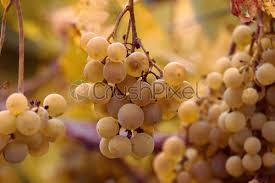grapes: (82, 28, 183, 169), (191, 59, 274, 174), (2, 85, 66, 164)
